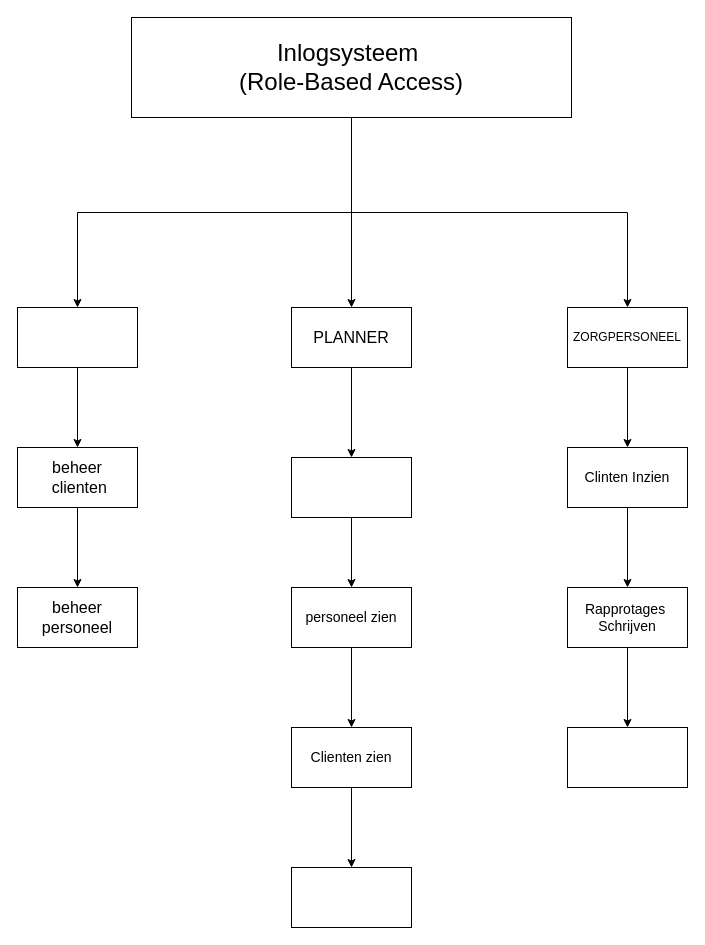
Some shapes in this 705 by 945 pixel diagram are drawn without their labels. Each missing label, with the centre of its shape:
"ADMIN" belongs at pixel 77 337.
"Clienten verdelen" belongs at pixel 351 897.
"Metingen Registreren" belongs at pixel 627 757.
"Planning beheren" belongs at pixel 351 487.
